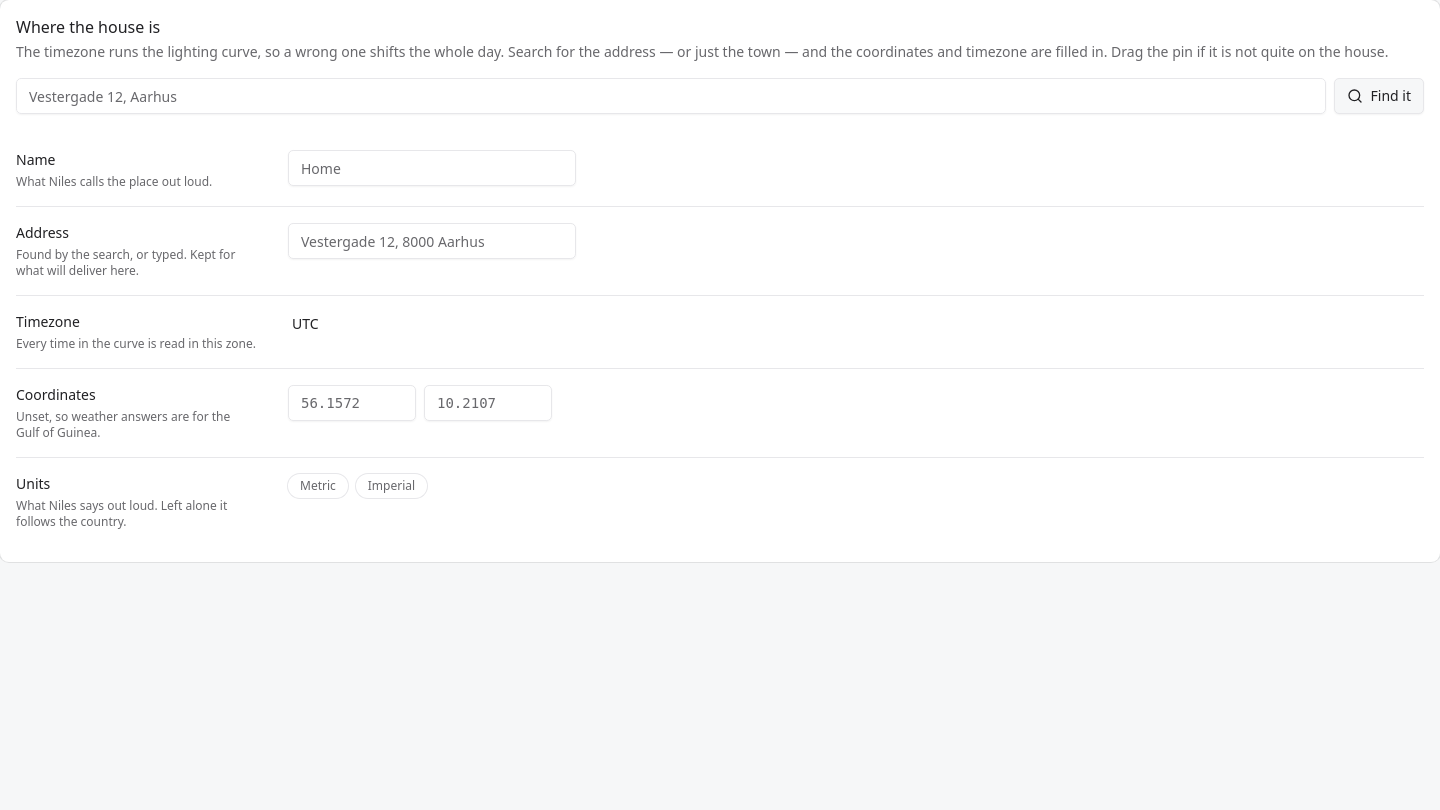
Scenario: HomeCard › offers the numbers by hand when the index cannot be reached
Step 1. Type "Aarhus" into the field named "Address or town" → (671, 96), box [16, 78, 1326, 114]
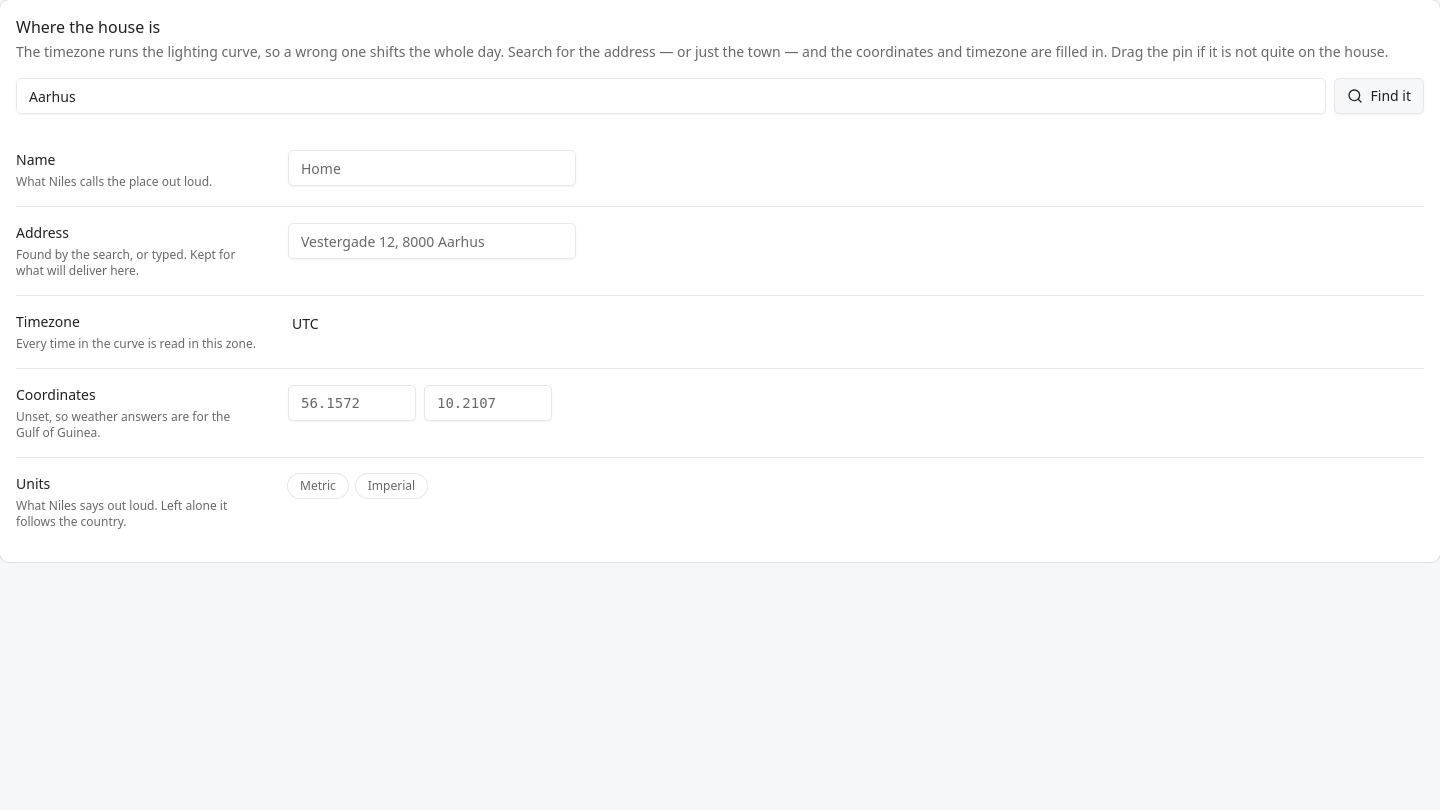
Step 2. Click the button "Find it" → (1379, 96), box [1334, 78, 1424, 114]
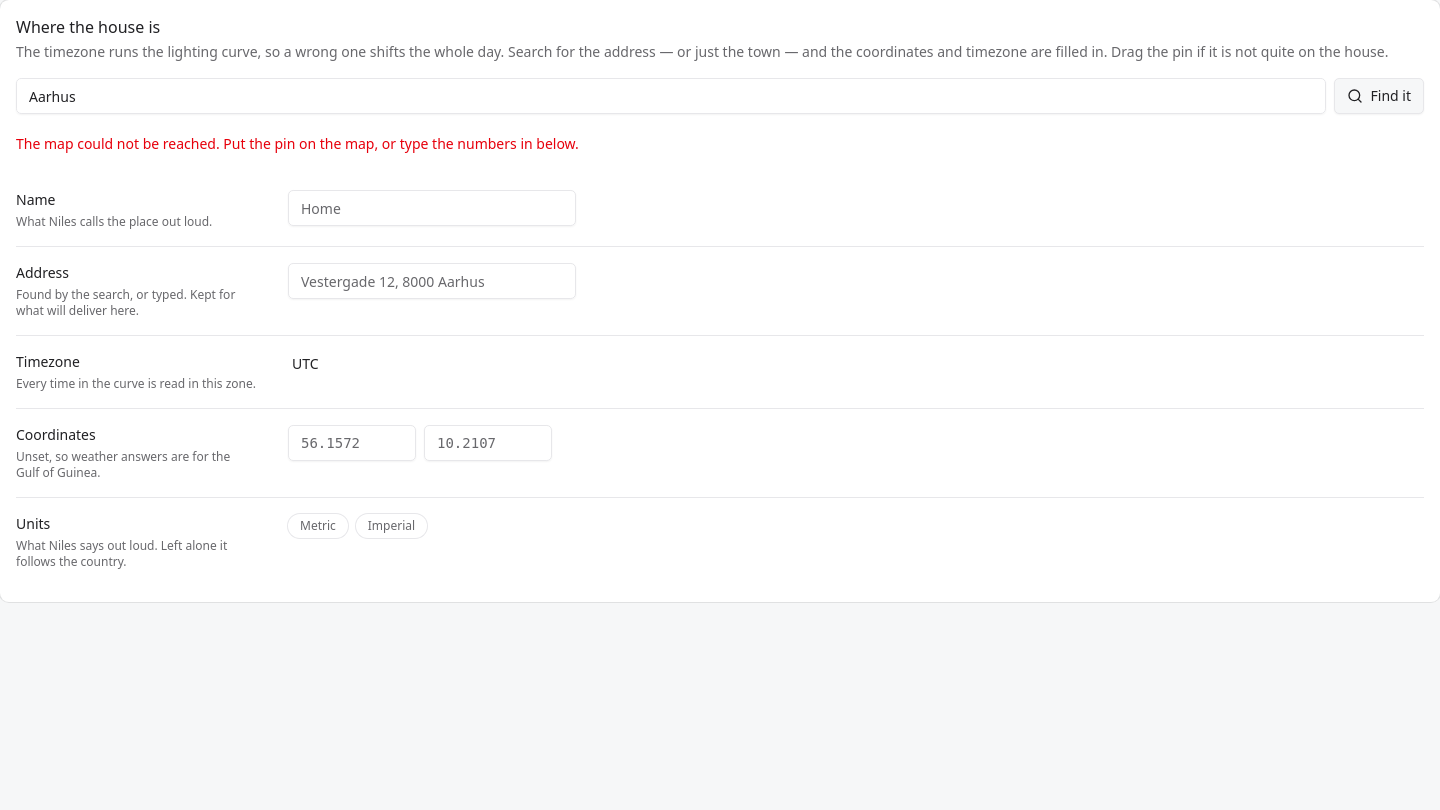
Expected: the field named "Latitude" is shown, [288, 425, 416, 461]
Result: the text "type the numbers in below" is shown at [16, 134, 579, 153]
